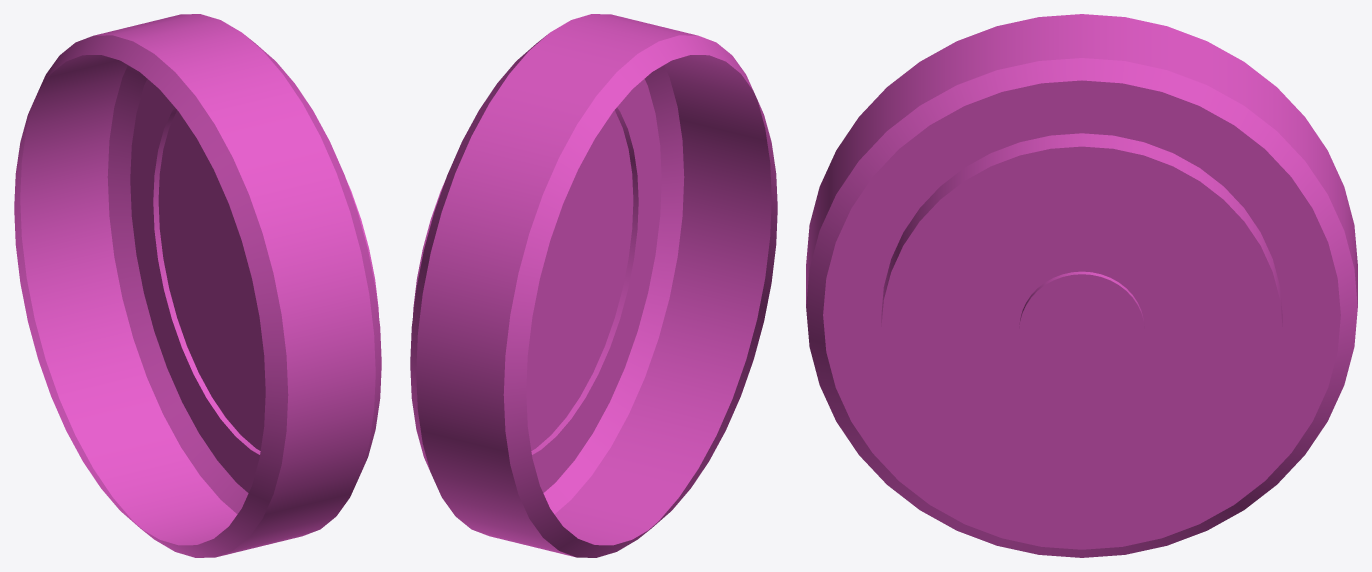
File: ax_right_03.obj
The picture shows the model from 3 angles, left to right: view 1: azimuth 30°, elevation 25°; view 2: azimuth 150°, elevation 25°; view 3: azimuth 270°, elevation 25°; orthographic projection. The views are drawn at different scales.
Parts seen in each view (by area): view 1: AX1_Right_03; view 2: AX1_Right_03; view 3: AX1_Right_03.
Part boxes in pixels (<box>): AX1_Right_03: <box>14,14,381,557</box>; AX1_Right_03: <box>410,14,777,557</box>; AX1_Right_03: <box>806,14,1357,557</box>.
Bounding box in the file's own units: 28 × 88 × 88.
